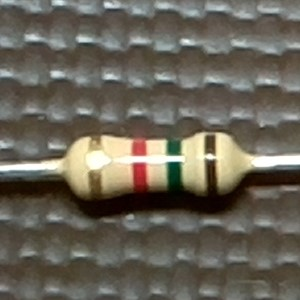brown_band: (202, 128, 219, 201)
gold_band: (85, 131, 106, 204)
green_band: (164, 137, 184, 196)
red_band: (129, 135, 150, 197)
